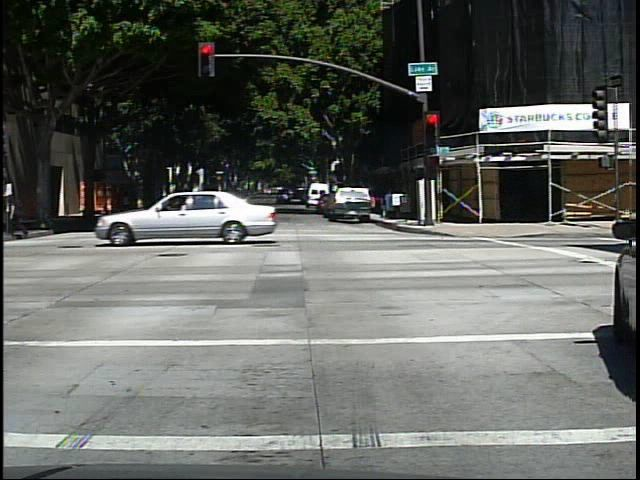person: (5, 189, 30, 242)
